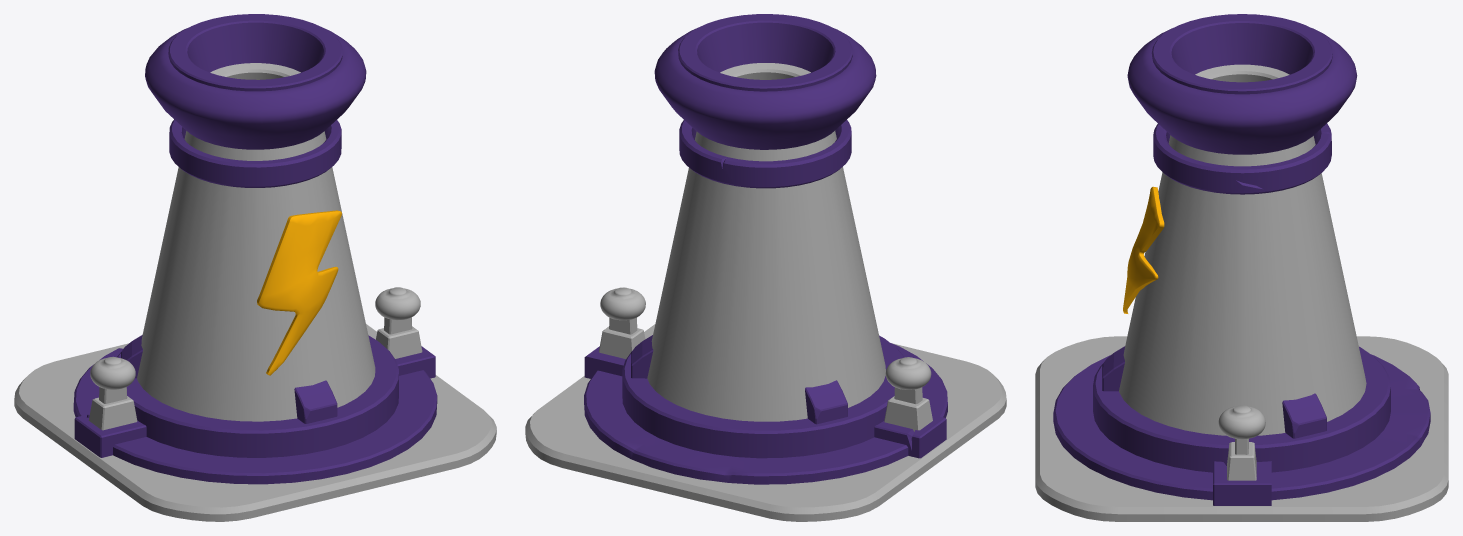
3 renders of one model, left to right at view 1: azimuth 30°, elevation 25°; view 2: azimuth 150°, elevation 25°; view 3: azimuth 270°, elevation 25°, orthographic. The views are drawn at different scales.
Visible parts, largest first — view 1: 电厂主体, 闪电; view 2: 电厂主体; view 3: 电厂主体, 闪电.
Part boxes in pixels (bbox=[...]): 电厂主体: bbox=[14, 14, 496, 521]; 闪电: bbox=[257, 210, 341, 375]; 电厂主体: bbox=[525, 14, 1006, 521]; 电厂主体: bbox=[1035, 14, 1448, 521]; 闪电: bbox=[1123, 186, 1164, 313].
Bounding box in the file's own units: 10.81 × 11.05 × 10.81.
